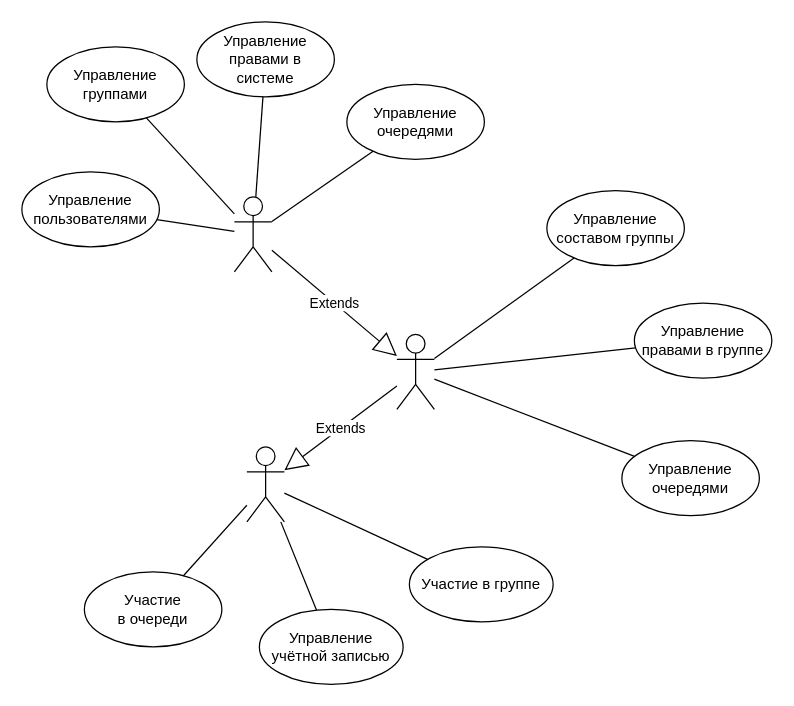
This 794x706 diagram has some shape labels left out. Each missing label, with the box of its shape:
Администратор: (233, 196, 272, 272)
Модератор: (396, 333, 434, 409)
Пользователь: (246, 446, 284, 522)
